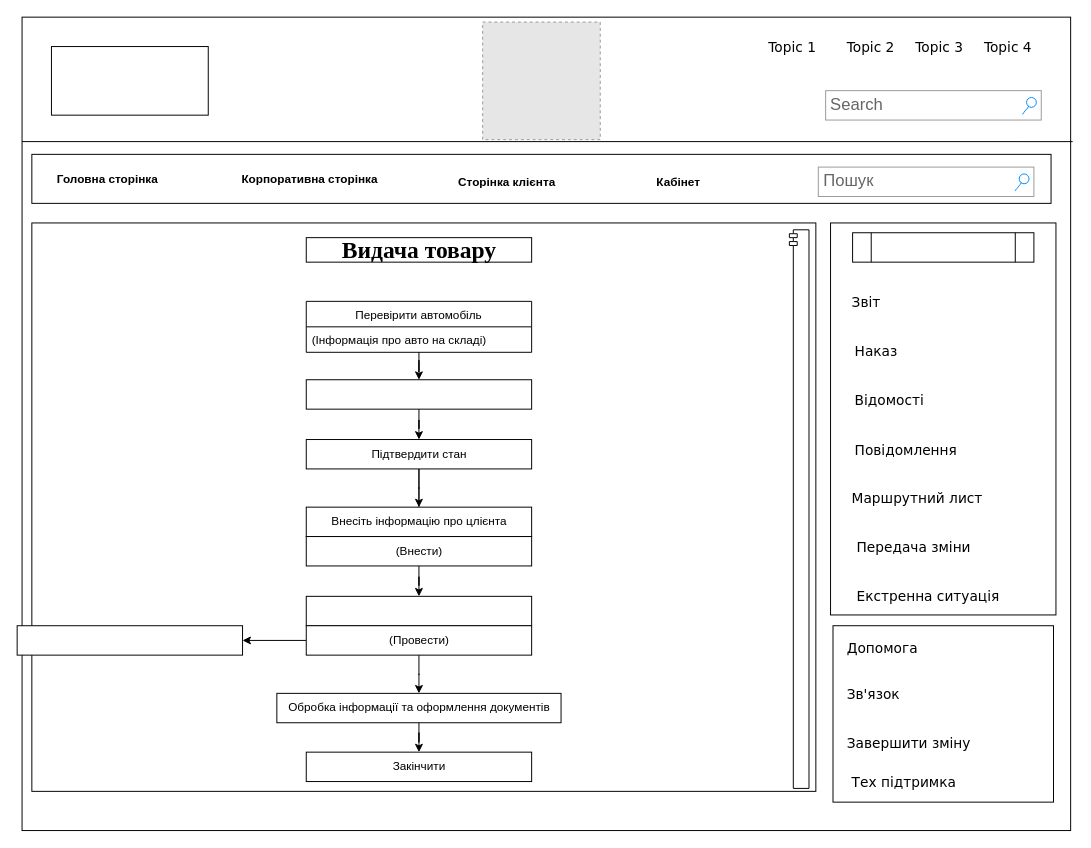
Image size: 1091x848. Some labels were removed from this diagram. Grey dashed boxes stand in for pictures. The box of each missing label's shape, as (x1, y1, x2, y2) in pixels:
Tesla: (50, 46, 208, 115)
Внесіть стан авто: (305, 379, 532, 409)
Перевіркаа інформації клієнта: (16, 625, 243, 655)
Проаведіть оплату: (305, 595, 532, 626)
Функції: (852, 232, 1034, 262)
